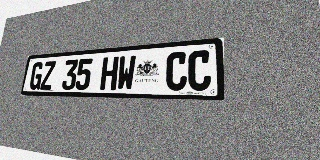3: (61, 59, 79, 90)
5: (75, 58, 93, 90)
C: (187, 50, 211, 91), (165, 51, 188, 91)
G: (29, 62, 44, 90)
H: (100, 56, 119, 90)
W: (116, 55, 136, 90)
Z: (40, 61, 56, 90)
